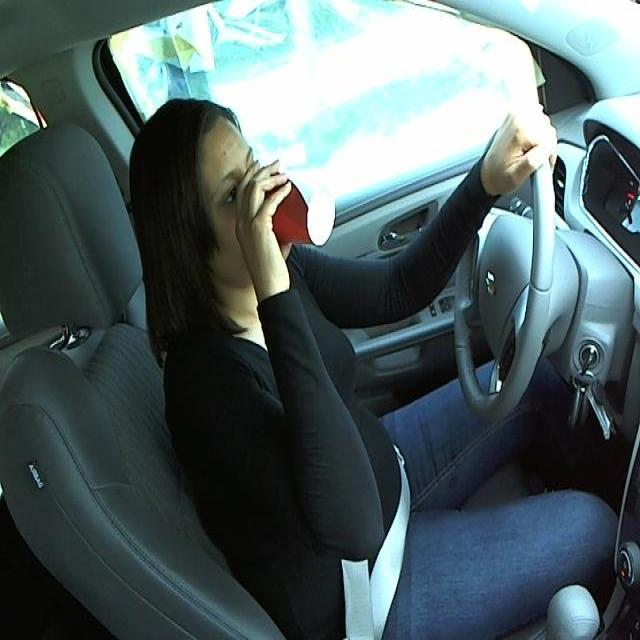drinking: (250, 167, 336, 250)
